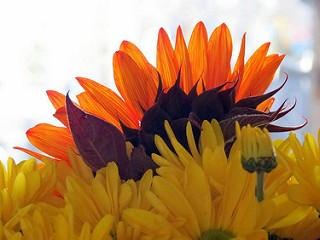flower: (7, 18, 314, 165), (229, 117, 282, 173)
